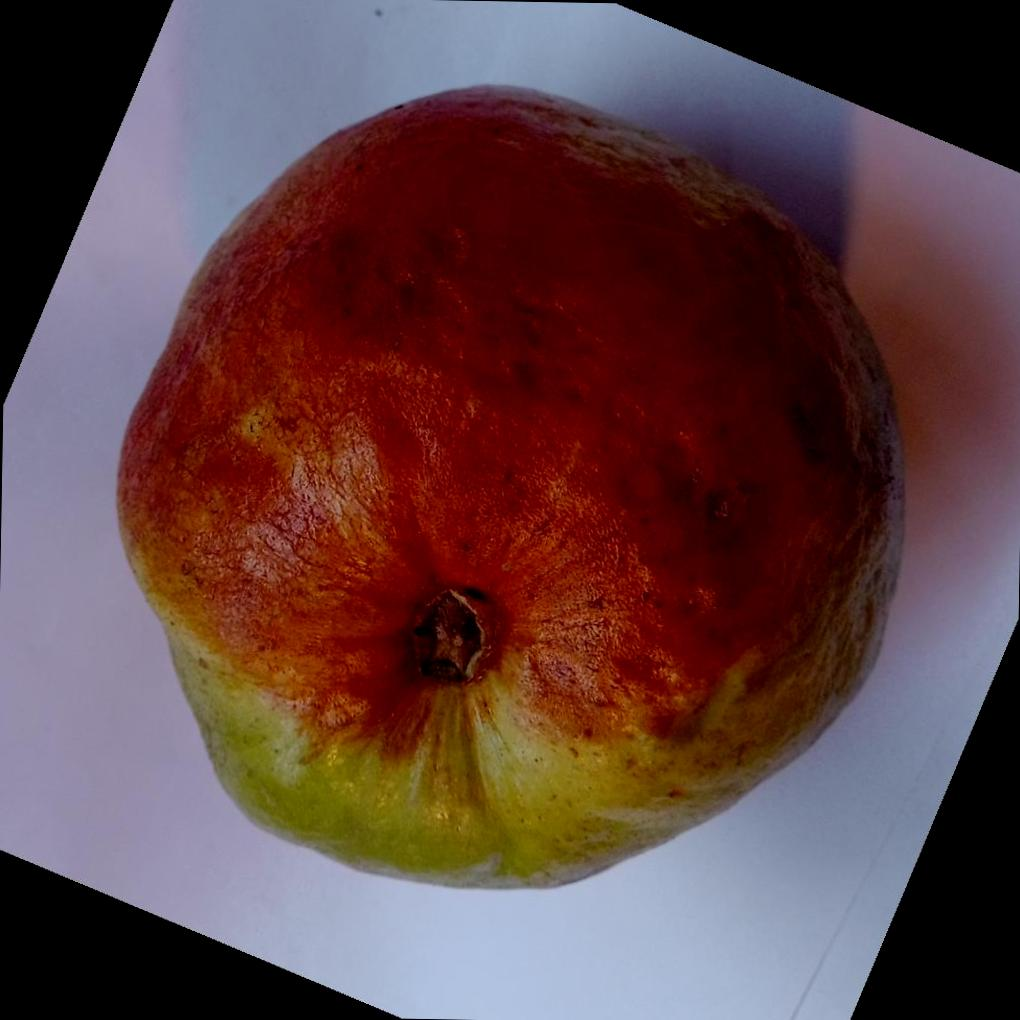FreshOrange: (114, 78, 907, 886)
